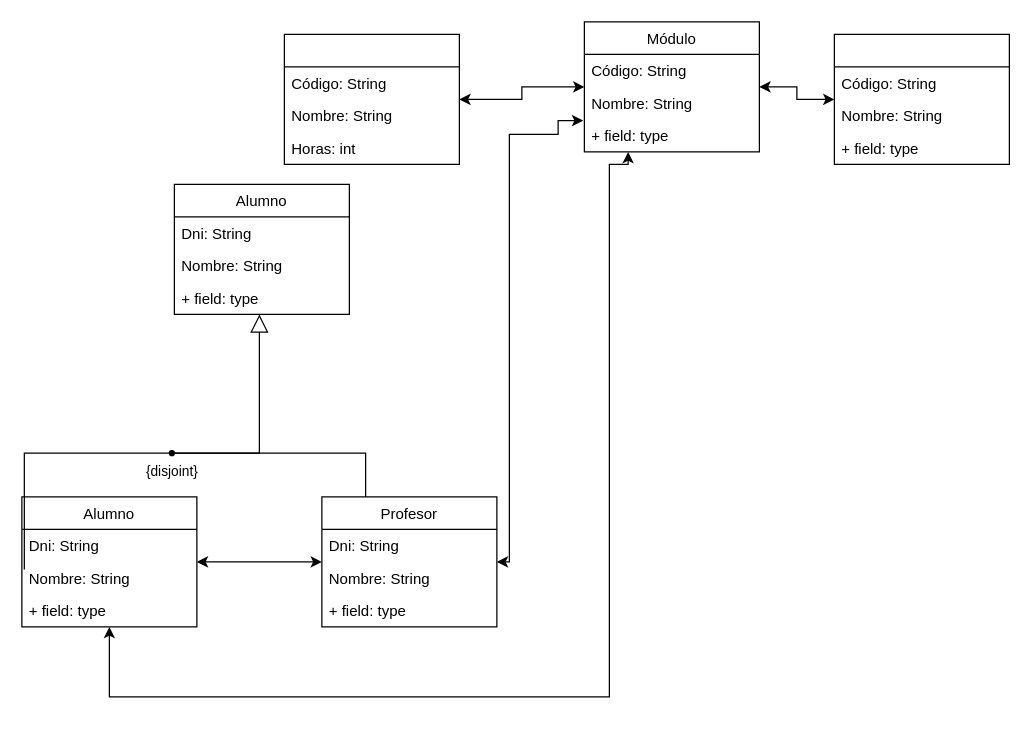
Image size: 1031x730. Some labels were removed from this diagram. The box of each missing label's shape, as (x1, y1, x2, y2) in pixels:
Ciclo: (283, 33, 459, 164)
Ra: (833, 33, 1009, 164)
